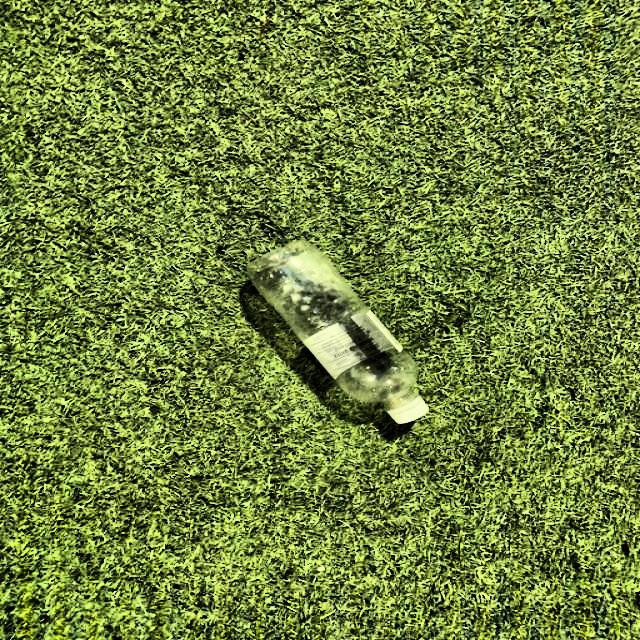plastic bottle: (249, 241, 430, 424)
